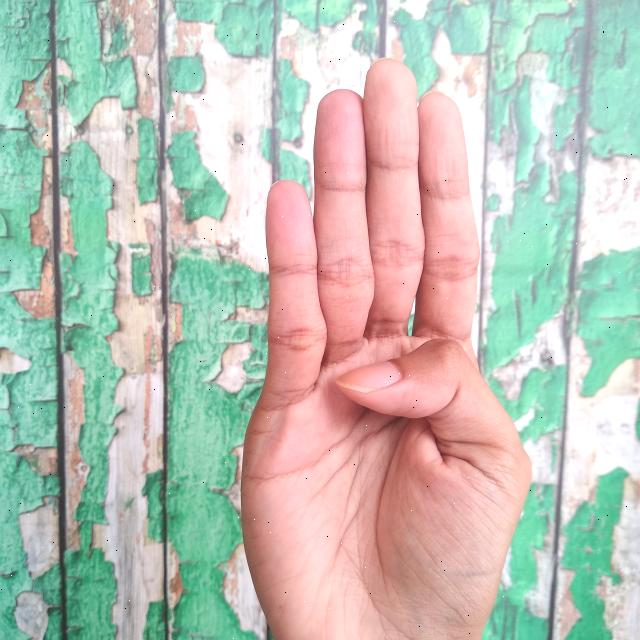B: (239, 55, 539, 640)
